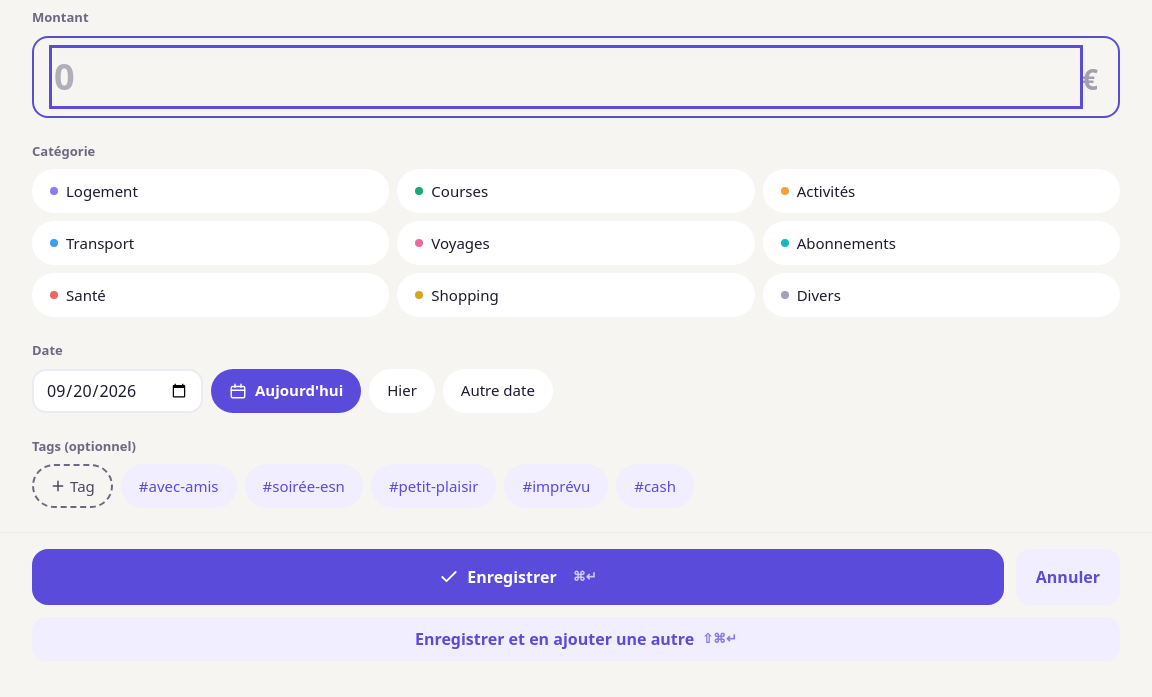
Test: ExpenseForm › sous-catégorie › n’affiche que celles de la catégorie choisie
The width and height of the screenshot is (1152, 697).
Expected: the radio button labelled "Viande" is not shown
Click the radio button labelled "Courses" at (576, 191), box [397,169,755,213]
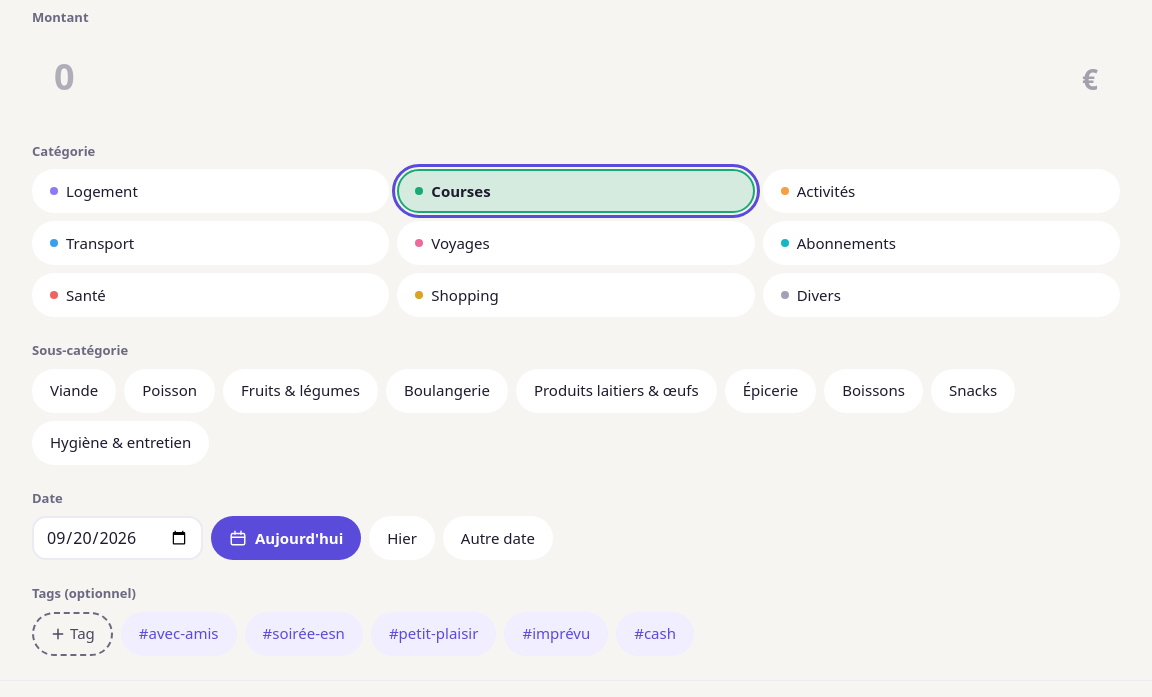
Result: the radio button labelled "Viande" is shown at [32,368,116,412]
